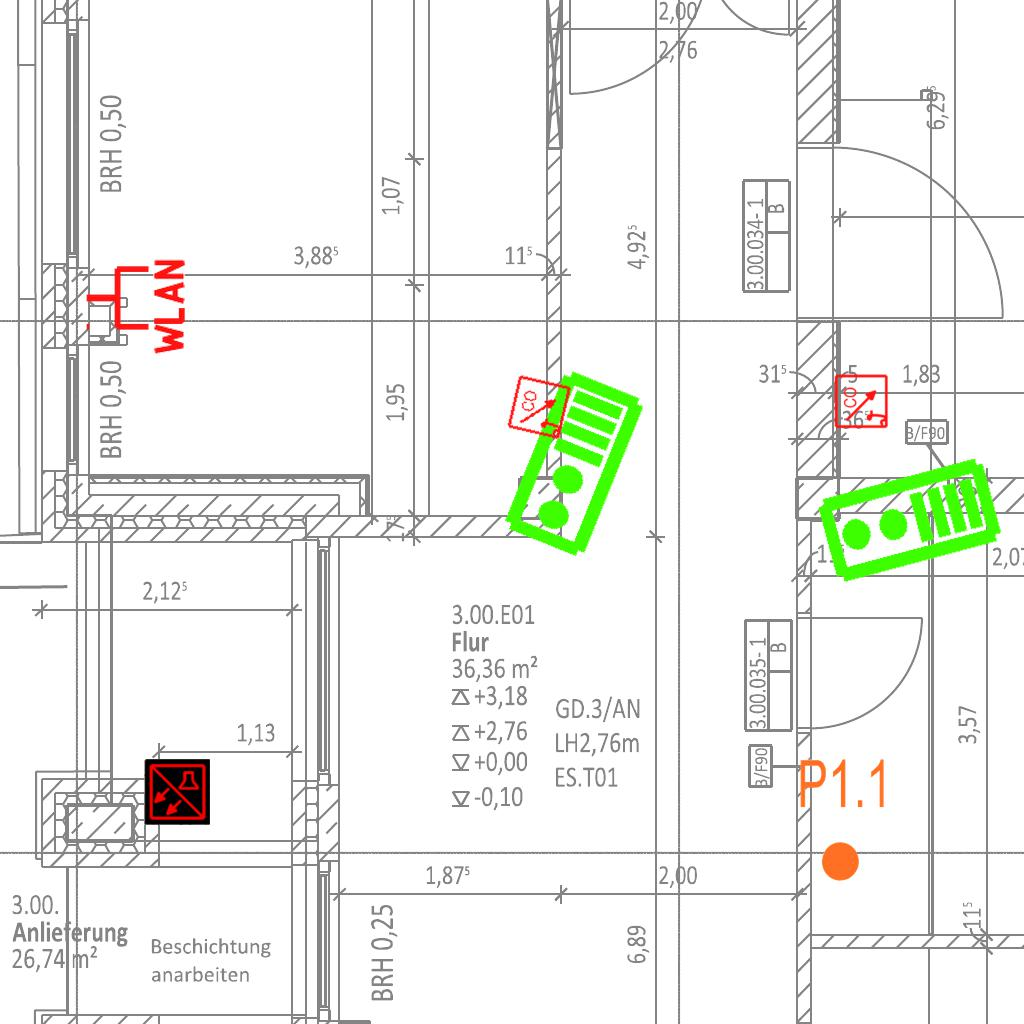Downlight_LED_Einbauleuchten_Flur: (797, 756, 890, 884)
Gegensprechanlage_mit_Video: (498, 365, 653, 565), (812, 453, 1007, 591)
OKW_Multisensormelder_(Kombination_optischer_Rauch-Kahlenmonoxid_Waerme-Melder): (144, 759, 210, 825)
ROA_Rauchmelder_optisch_mit_Signalgeber_(Sockelsirene): (506, 373, 574, 441), (834, 373, 890, 429)
WLAN: (82, 255, 187, 359)
